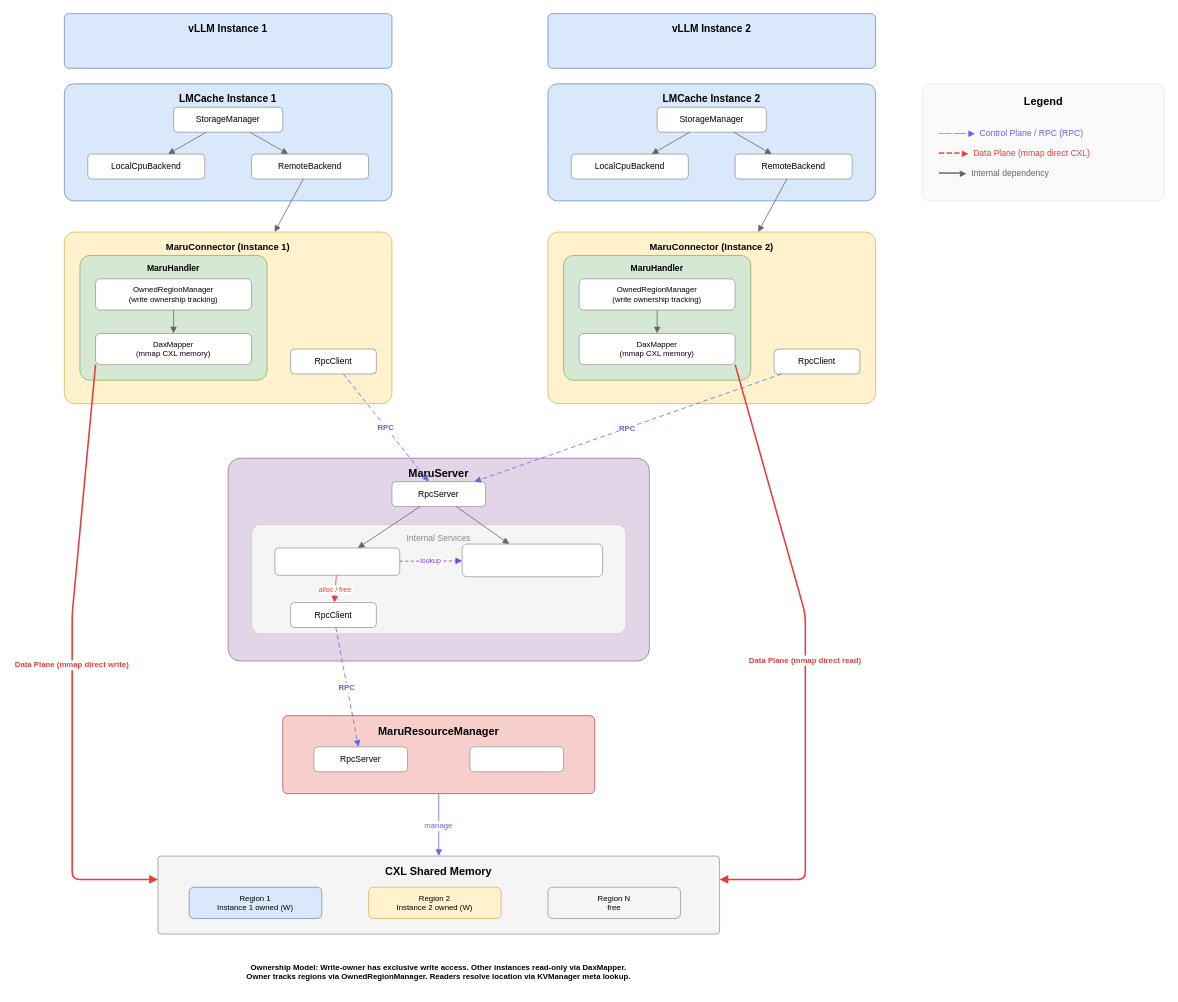
Image size: 1178x1002. Some labels were removed from this diagram. Each missing label, with the centre of its shape:
"AllocationManager" belongs at point 337,561.
"KVManager key → (region_id, offset)" belongs at point 532,560.
"PoolManager" belongs at point 516,759.
